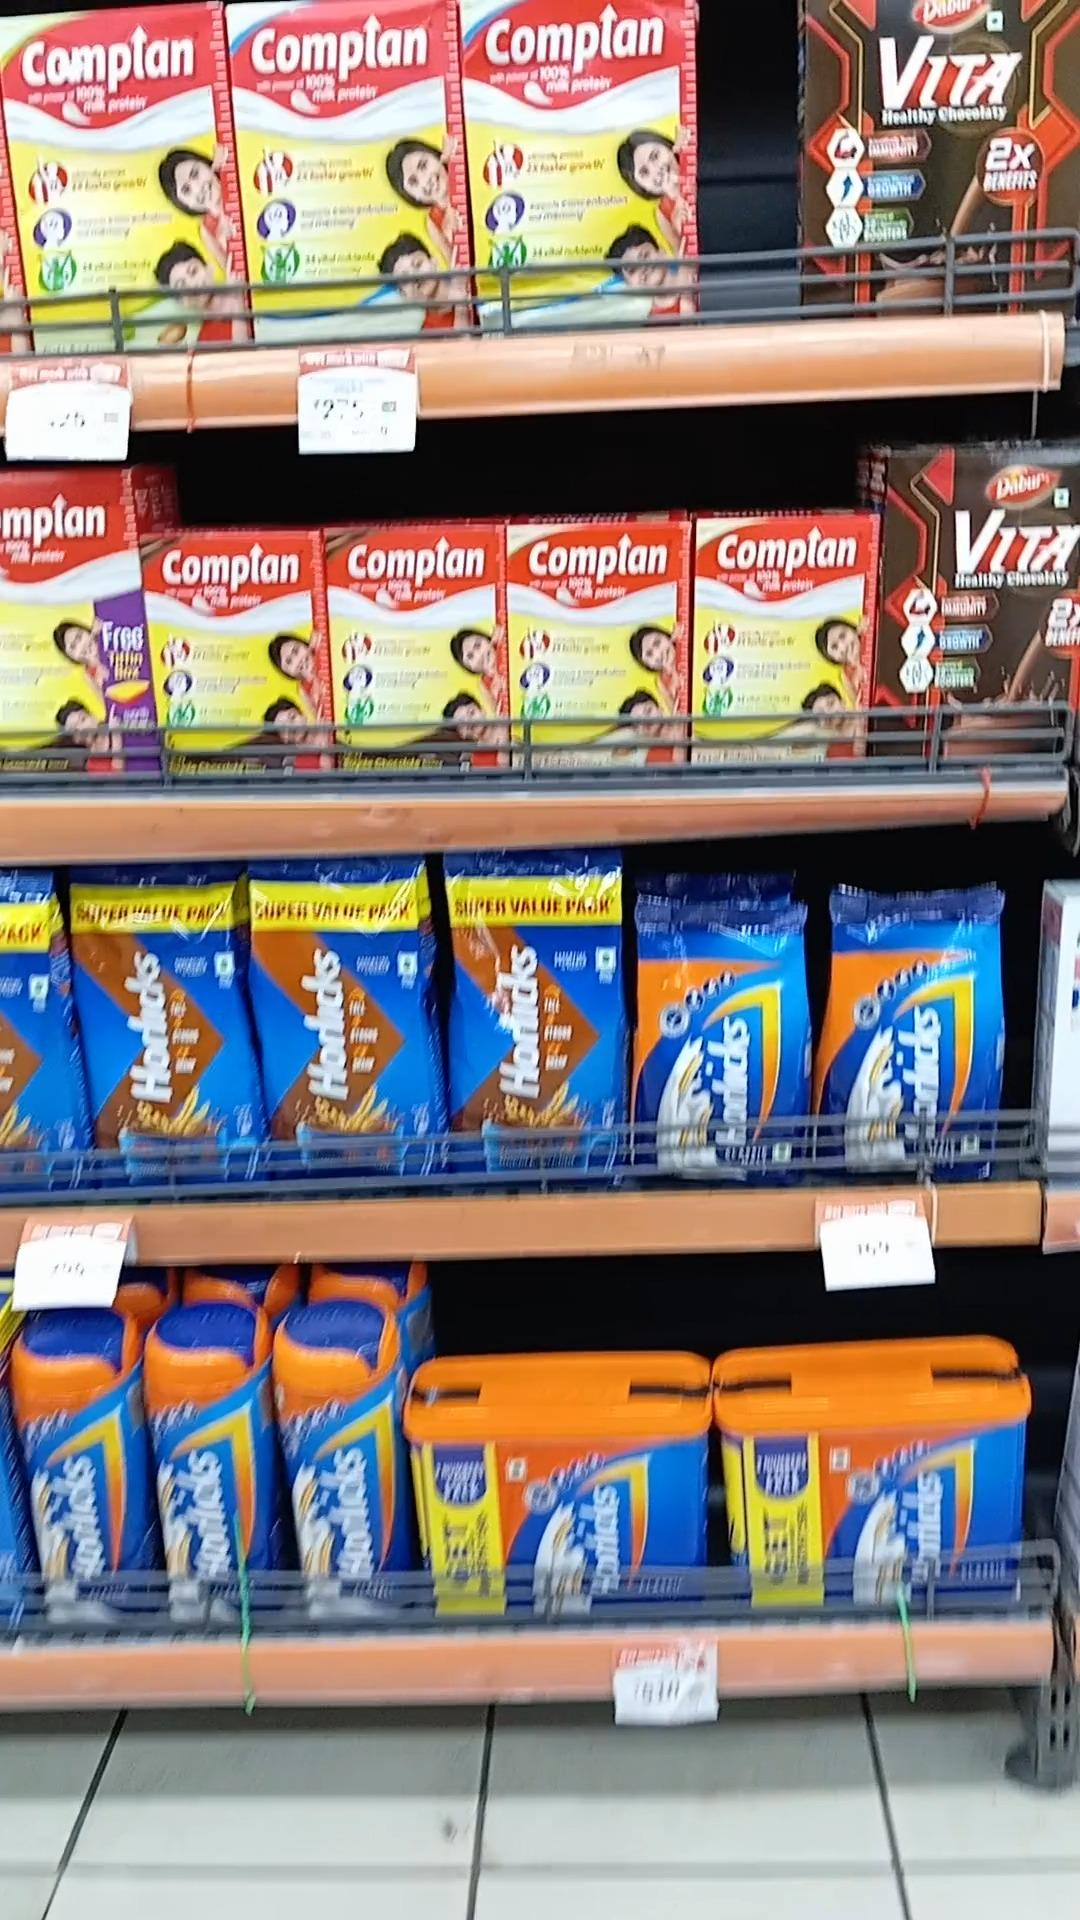COMPLAN_CHOCOLATE_1_KG_PACK: (0, 473, 142, 798)
COMPLAN_CHOCOLATE_500_GMS_PACK: (146, 538, 326, 787), (327, 534, 502, 783)
COMPLAN_KESAR_BADAM_500_GMS_PACK: (510, 525, 690, 767), (695, 518, 864, 770)
COMPLAN_PISTA_BADAM_500_GMS_PACK: (4, 7, 232, 357)
HORLICK_CHOCOLATE_750_G_POUCH: (251, 862, 426, 1191), (450, 862, 621, 1193), (75, 869, 244, 1195)
HORLICK_CLASSIC_MALT_750_G_POUCH: (827, 887, 1002, 1179), (640, 899, 806, 1184)
HORLICK_MALT_1_KG_CONTAINER: (725, 1390, 1033, 1602), (407, 1411, 707, 1627)
